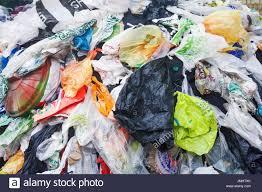Plastic bag: (1, 0, 262, 175)
